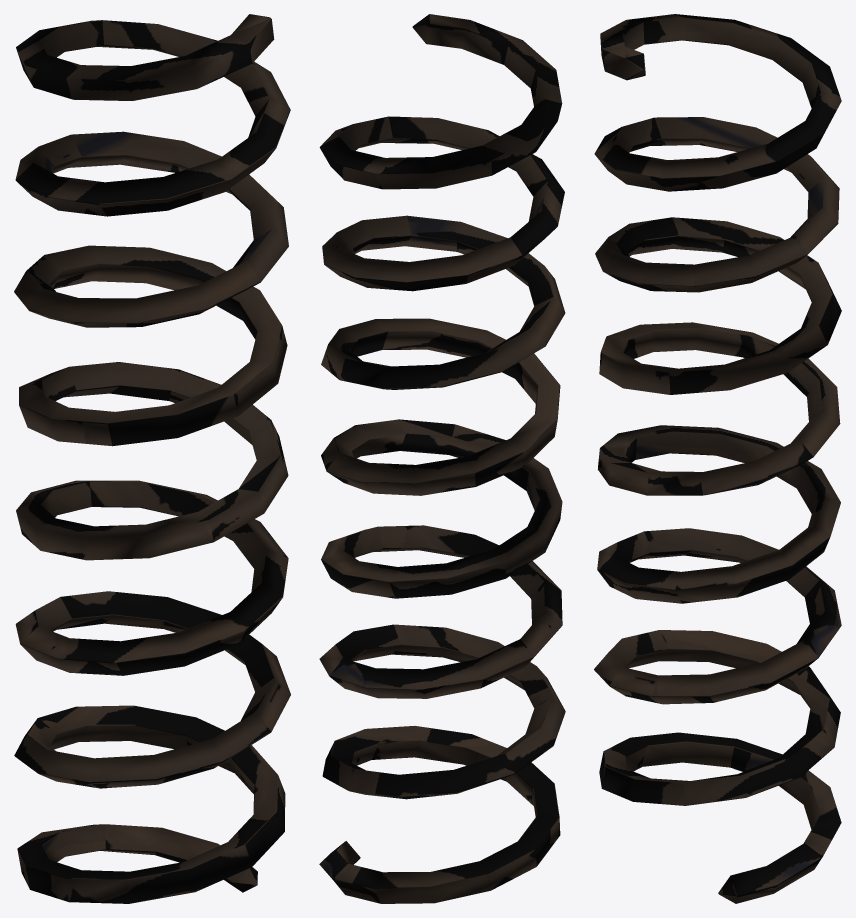
Rendered from Atalanta_Lanza_Cuero.fbx.
3 views of the same model, side by side, from view 1: azimuth 30°, elevation 25°; view 2: azimuth 150°, elevation 25°; view 3: azimuth 270°, elevation 25° (orthographic). The views are drawn at different scales.
Parts seen in each view (by area): view 1: Atalanta_Lanza_Cuero; view 2: Atalanta_Lanza_Cuero; view 3: Atalanta_Lanza_Cuero.
Boxes of the visible parts, x1,y1,x2,y2 form: Atalanta_Lanza_Cuero: (14, 14, 290, 903); Atalanta_Lanza_Cuero: (319, 14, 565, 903); Atalanta_Lanza_Cuero: (594, 14, 841, 903).
Bounding box in the file's own units: 0.196 × 0.7249 × 0.1959.
